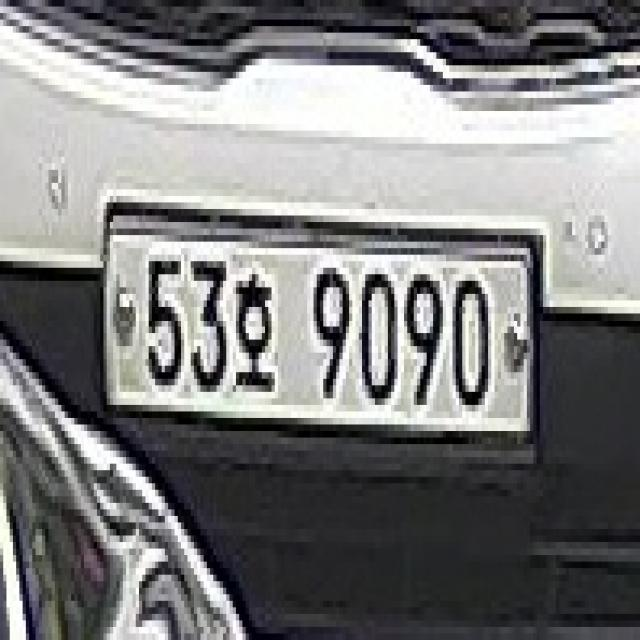0: (446, 261, 491, 418), (359, 262, 401, 412)
3: (184, 242, 233, 398)
6: (139, 235, 181, 379)
9: (307, 262, 356, 398), (404, 268, 443, 405)
ho: (227, 255, 284, 398)
license_plate: (97, 202, 540, 463)
